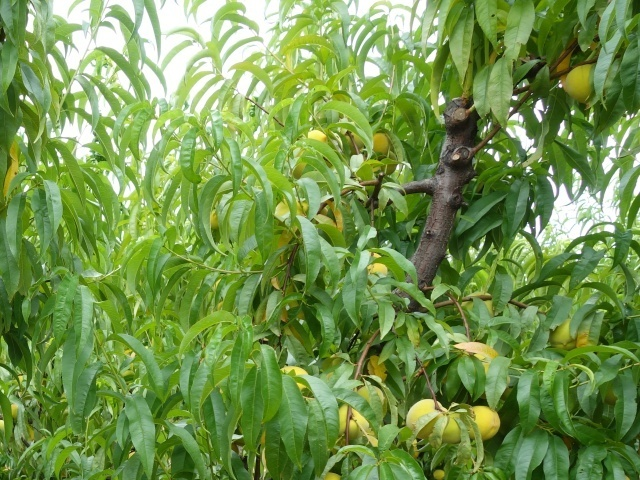peach: (335, 395, 373, 449), (406, 396, 445, 442), (564, 58, 601, 103), (280, 360, 319, 399), (465, 402, 502, 442), (548, 314, 580, 354)
